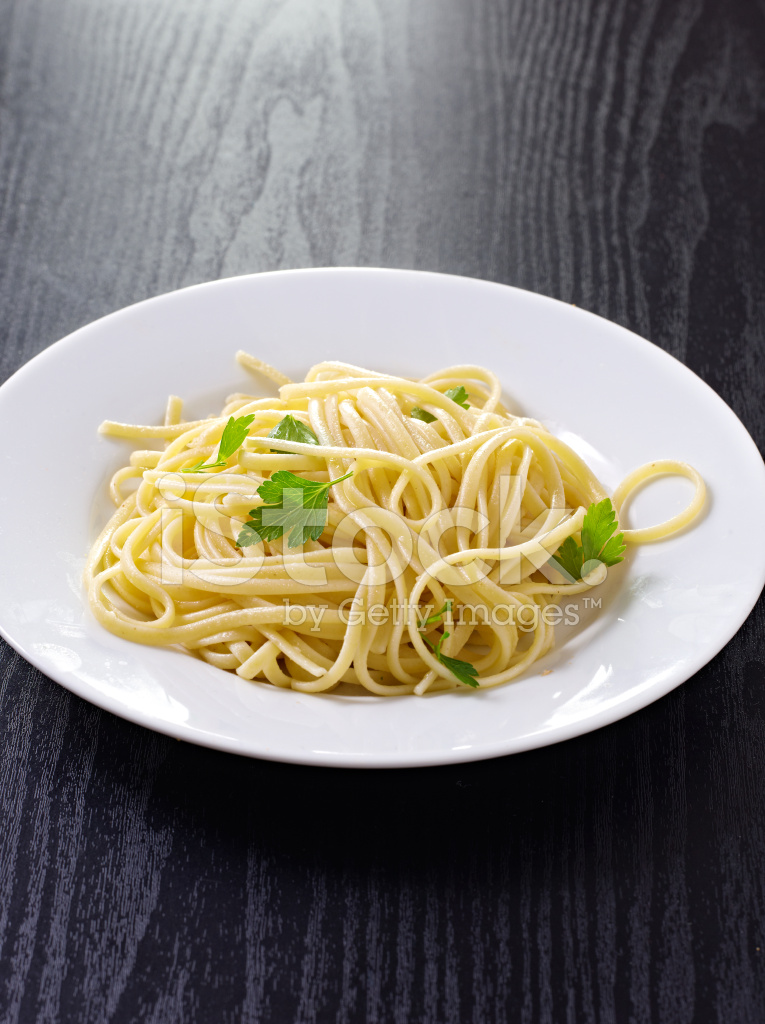plain spaghetti: (80, 359, 704, 671)
